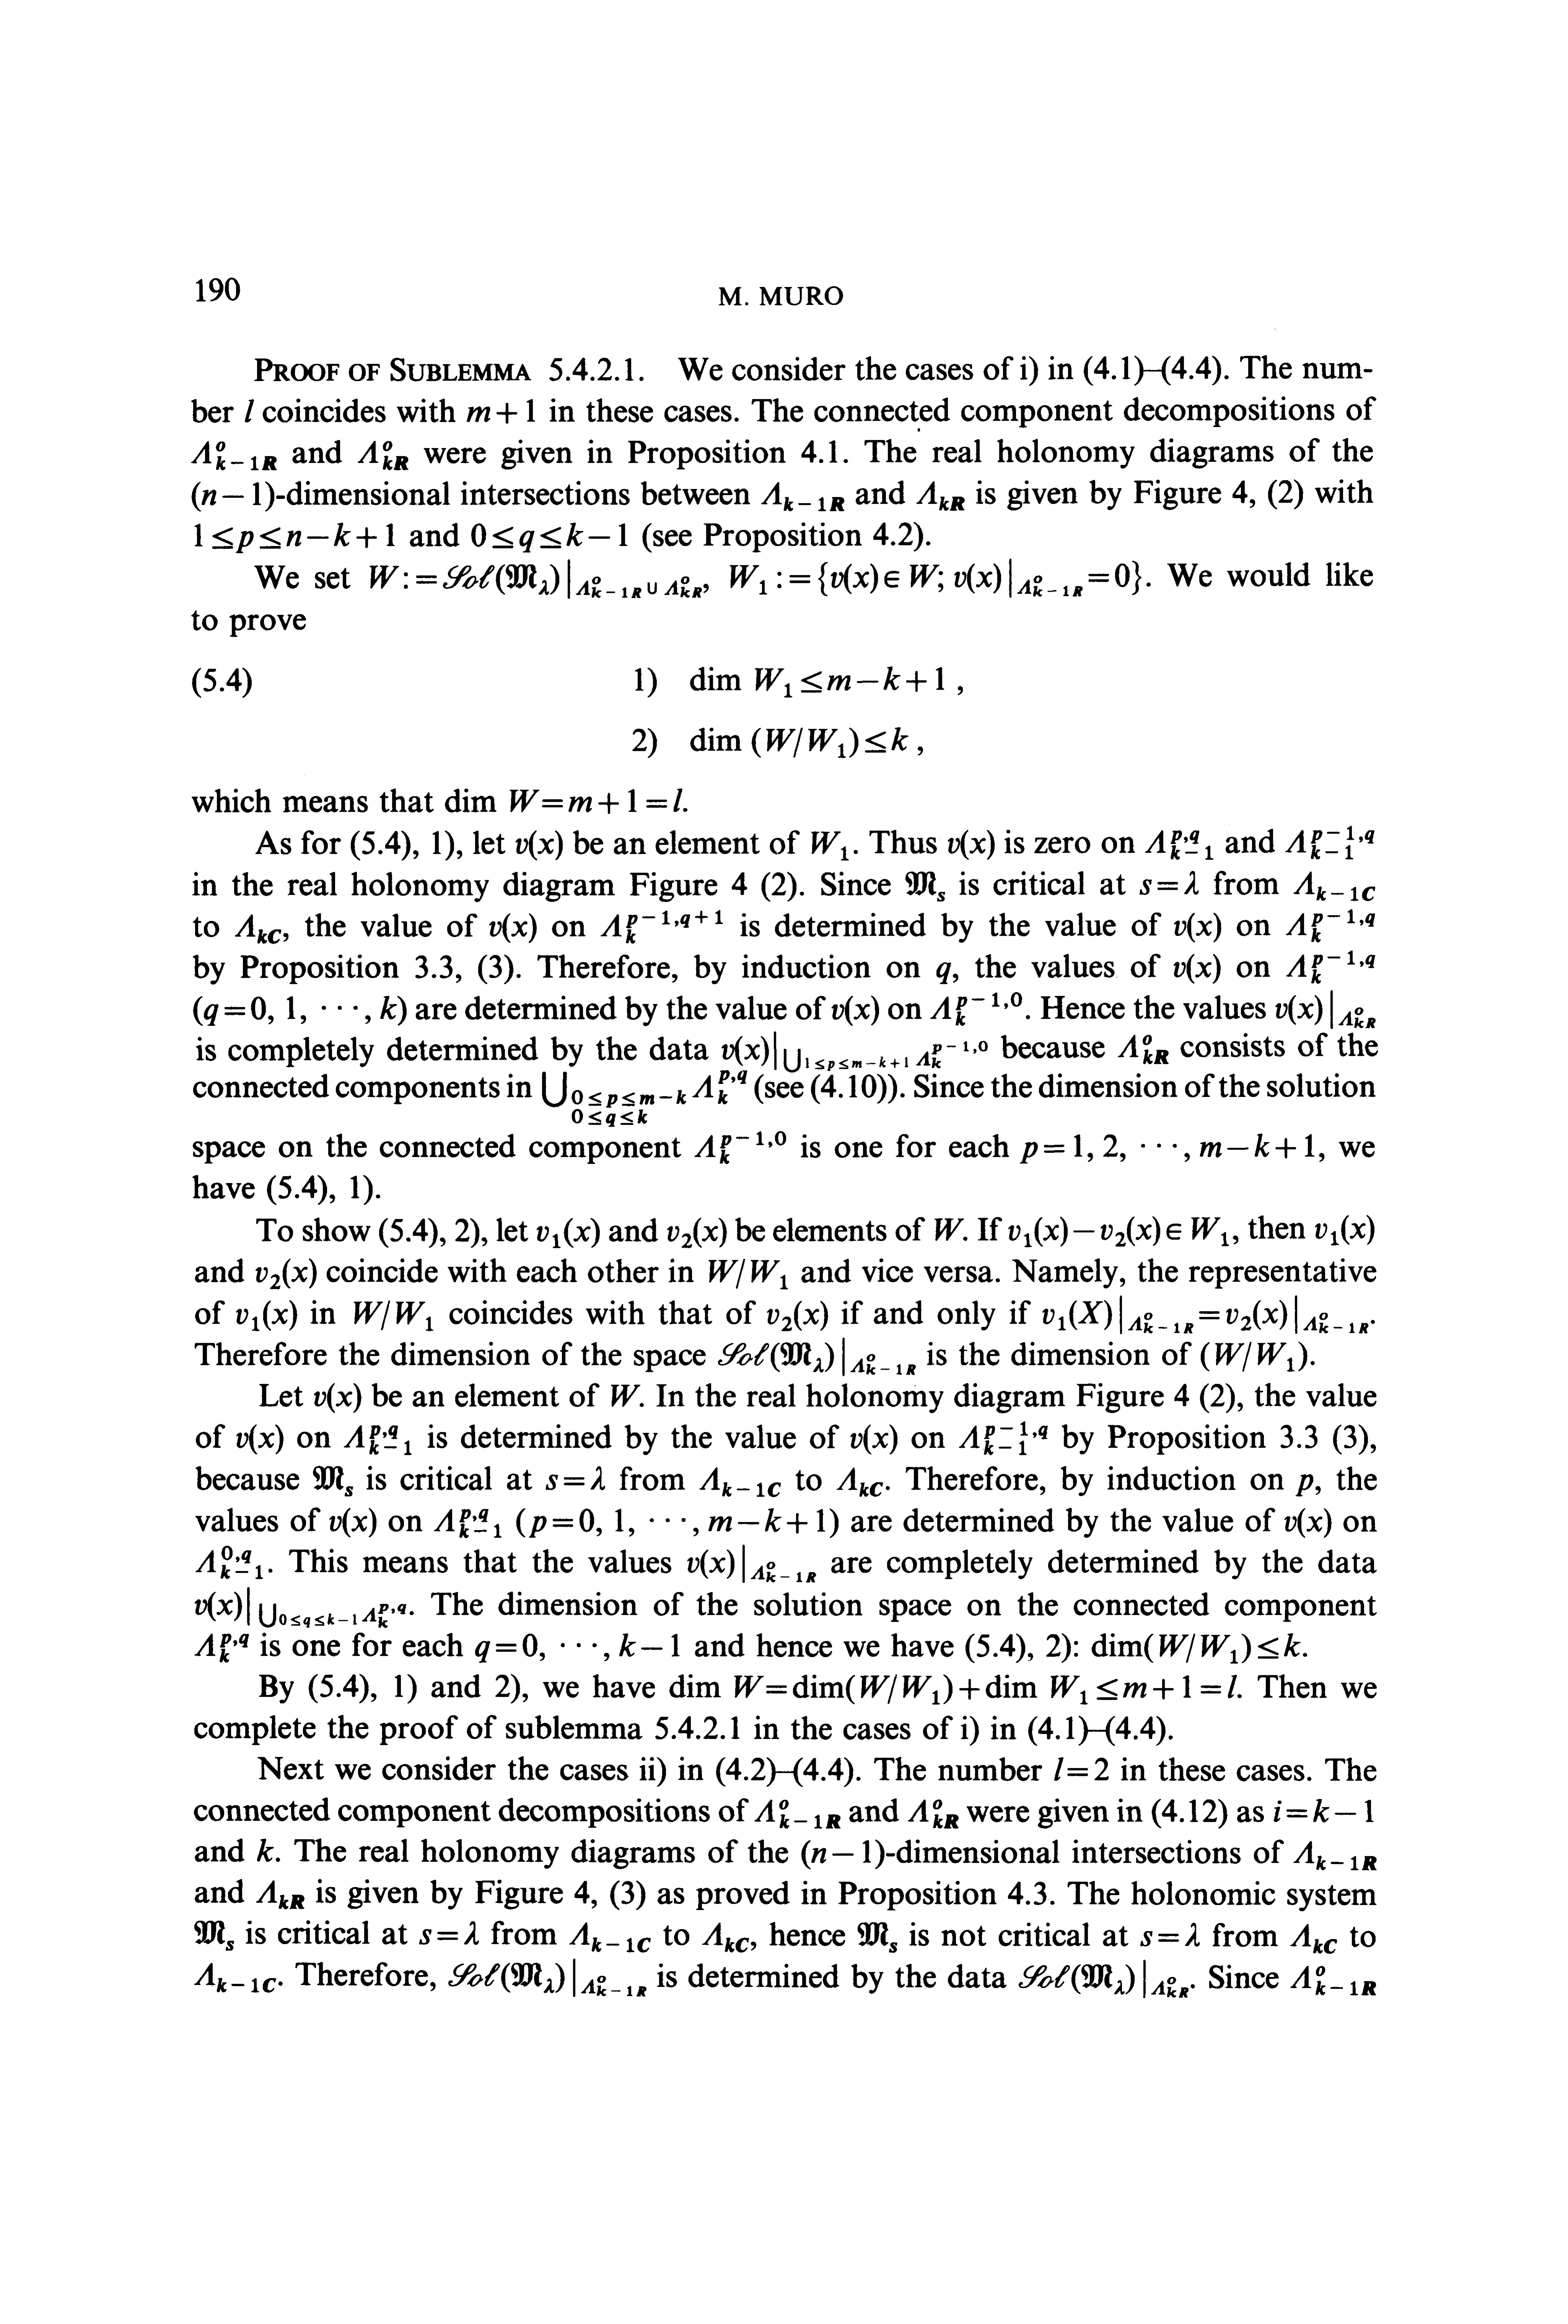maths: (668, 1675, 1237, 1704), (730, 558, 1141, 597), (717, 1031, 987, 1083), (369, 560, 702, 598), (1043, 1295, 1368, 1333), (434, 1508, 838, 1538), (542, 1069, 747, 1127), (1020, 1134, 1314, 1164), (194, 1587, 406, 1628), (717, 1337, 915, 1376), (448, 1958, 646, 1997), (689, 667, 943, 697), (1008, 1216, 1228, 1248), (1018, 1960, 1188, 1998), (689, 728, 908, 758), (192, 996, 406, 1025), (1092, 1633, 1300, 1662), (474, 1633, 679, 1662), (194, 523, 394, 553), (444, 789, 682, 814), (688, 1545, 815, 1582), (471, 523, 626, 551), (600, 910, 723, 943), (1276, 990, 1375, 1029), (1200, 1342, 1307, 1372), (931, 992, 1022, 1025), (695, 1130, 786, 1164), (1286, 908, 1375, 942), (1286, 950, 1375, 983), (959, 1421, 1048, 1454), (1286, 826, 1374, 859), (569, 1922, 651, 1953), (754, 1799, 840, 1829), (1290, 1965, 1375, 1995), (191, 481, 275, 511), (1293, 1841, 1377, 1871), (709, 1258, 787, 1290), (353, 1300, 432, 1332), (761, 481, 843, 511), (1293, 871, 1375, 901), (801, 1839, 884, 1869), (191, 441, 276, 469), (194, 1963, 276, 1991), (1274, 1799, 1374, 1822), (700, 1468, 780, 1496), (196, 1545, 262, 1579), (1144, 829, 1213, 859), (255, 1258, 317, 1290), (236, 1300, 297, 1332), (766, 1300, 828, 1332), (343, 1426, 411, 1454), (537, 1218, 598, 1248), (1316, 1214, 1374, 1246), (667, 1218, 726, 1248), (467, 399, 535, 423), (194, 1635, 248, 1662), (1118, 1034, 1169, 1064), (908, 1799, 959, 1829), (255, 1880, 304, 1909), (357, 441, 408, 469), (917, 481, 964, 511), (831, 996, 878, 1025), (313, 1383, 360, 1412), (236, 1424, 283, 1454), (850, 1424, 898, 1454), (702, 1923, 749, 1953), (1290, 1923, 1337, 1953), (516, 829, 562, 859), (948, 829, 994, 859), (1139, 871, 1199, 894), (234, 914, 280, 943), (490, 914, 535, 943), (1174, 954, 1220, 983), (546, 1466, 605, 1489), (1141, 1923, 1200, 1946), (1174, 914, 1221, 942), (420, 1922, 478, 1944), (1055, 1757, 1108, 1781), (836, 1468, 882, 1496), (857, 1922, 898, 1953), (905, 871, 945, 901), (194, 1922, 234, 1951), (313, 1466, 352, 1496), (1284, 1508, 1321, 1538), (329, 1508, 367, 1537), (812, 831, 849, 859), (934, 1218, 968, 1241), (611, 1384, 640, 1407), (1295, 1473, 1312, 1496), (257, 1839, 273, 1862), (936, 963, 950, 983), (245, 399, 254, 422)
